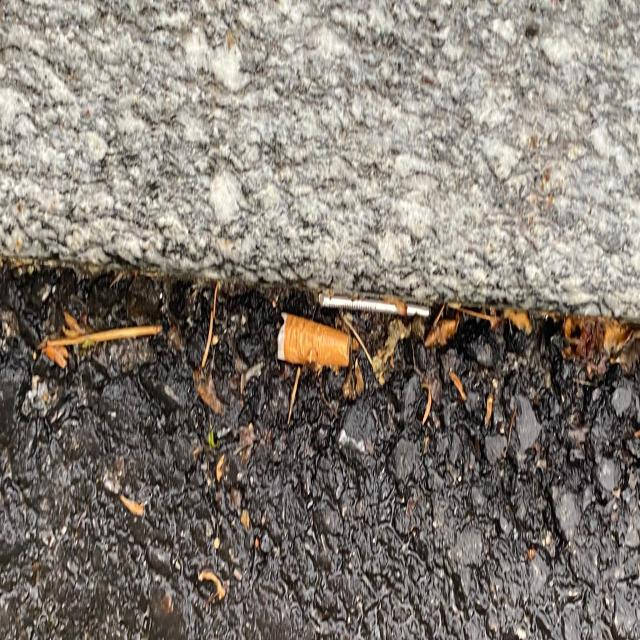other waste: (276, 310, 352, 368)
